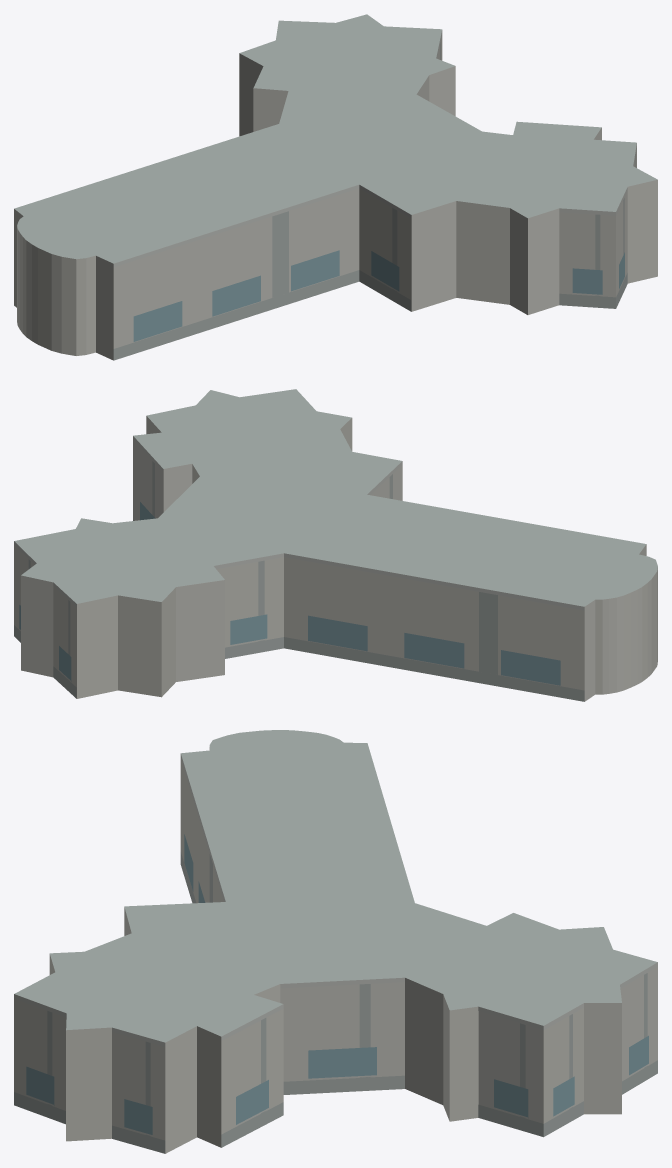
The model's file is survey-upis-32980297.glb.
The picture shows the model from 3 angles, top to bottom: view 1: azimuth 30°, elevation 25°; view 2: azimuth 150°, elevation 25°; view 3: azimuth 270°, elevation 25°; orthographic projection. The views are drawn at different scales.
Parts seen in each view (by area): view 1: survey-upis-32980297.tmp; view 2: survey-upis-32980297.tmp; view 3: survey-upis-32980297.tmp.
Part boxes in pixels (x1=…): survey-upis-32980297.tmp: x1=14, y1=14, x2=657, y2=360; survey-upis-32980297.tmp: x1=14, y1=389, x2=657, y2=701; survey-upis-32980297.tmp: x1=14, y1=730, x2=657, y2=1153.
Bounding box in the file's own units: 36.76 × 6.1 × 32.
